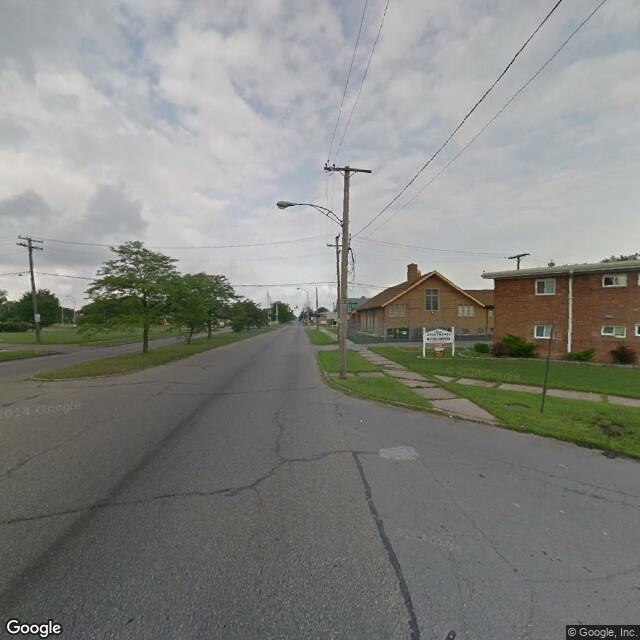litter: (444, 410, 457, 423)
